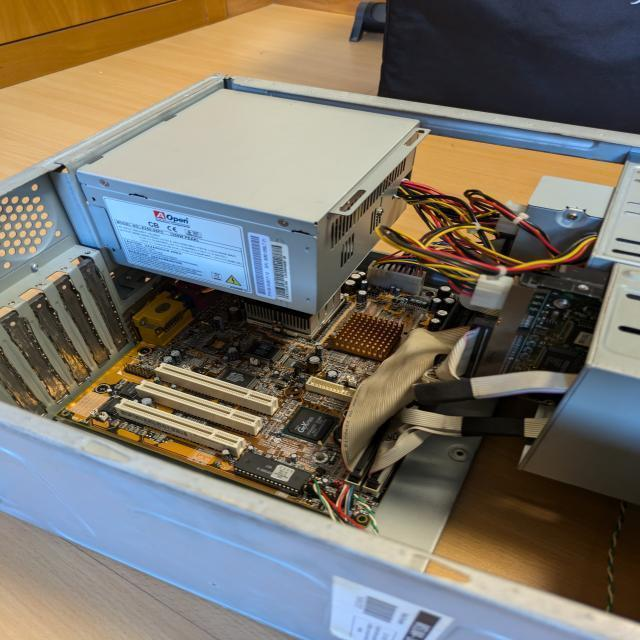CPU_Fan: (244, 288, 348, 336)
DISK: (472, 265, 608, 397)
Mainboard: (54, 271, 462, 528)
PSU: (75, 89, 424, 315)
